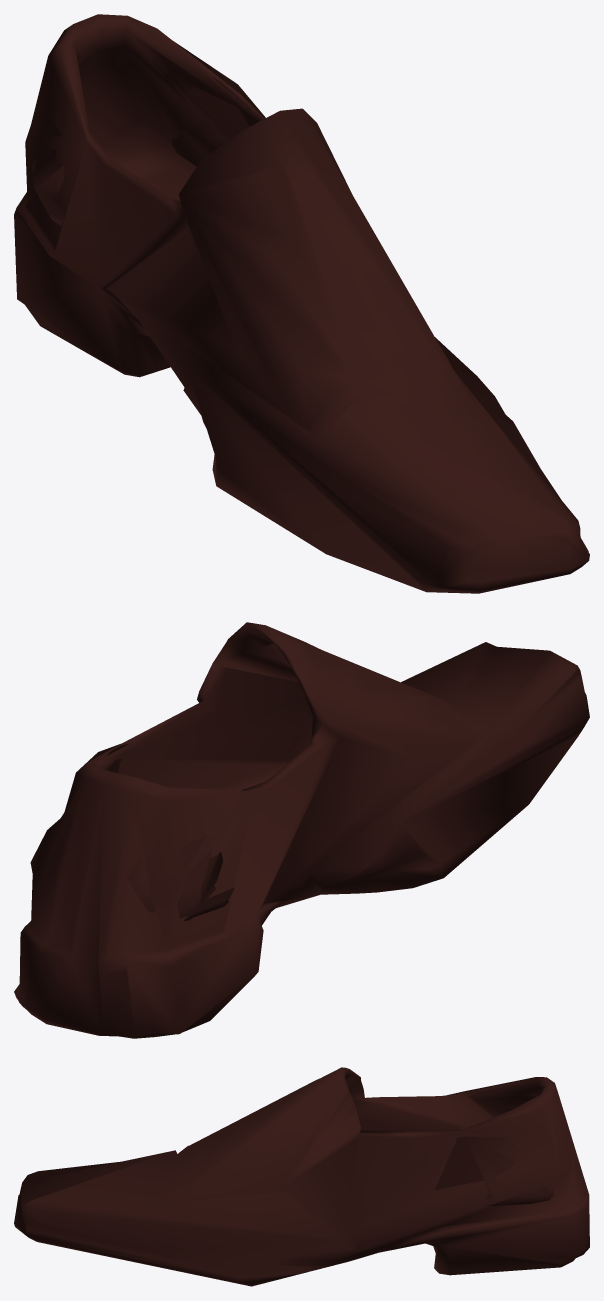
Rendered from menshoe.fbx.
The picture shows the model from 3 angles, top to bottom: view 1: azimuth 30°, elevation 25°; view 2: azimuth 150°, elevation 25°; view 3: azimuth 270°, elevation 25°; orthographic projection. The views are drawn at different scales.
Visible parts, largest first — view 1: PB161_shoe_low; view 2: PB161_shoe_low; view 3: PB161_shoe_low.
Part boxes in pixels (x1,y1,x2,y2): PB161_shoe_low: (14, 14, 589, 593); PB161_shoe_low: (14, 622, 589, 1038); PB161_shoe_low: (14, 1067, 589, 1286).
Size of the model in its own units: 12.62 by 13.19 by 37.92.
